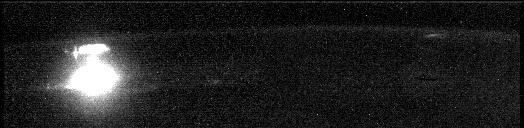positive: (68, 40, 112, 63)
